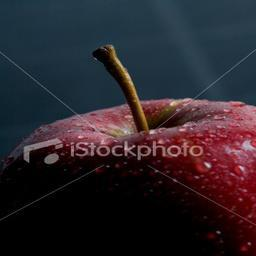apple: (3, 93, 256, 256)
